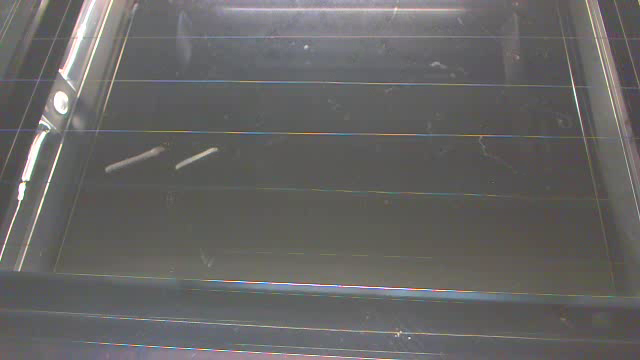Alfa: (174, 137, 224, 175), (105, 142, 168, 171)
